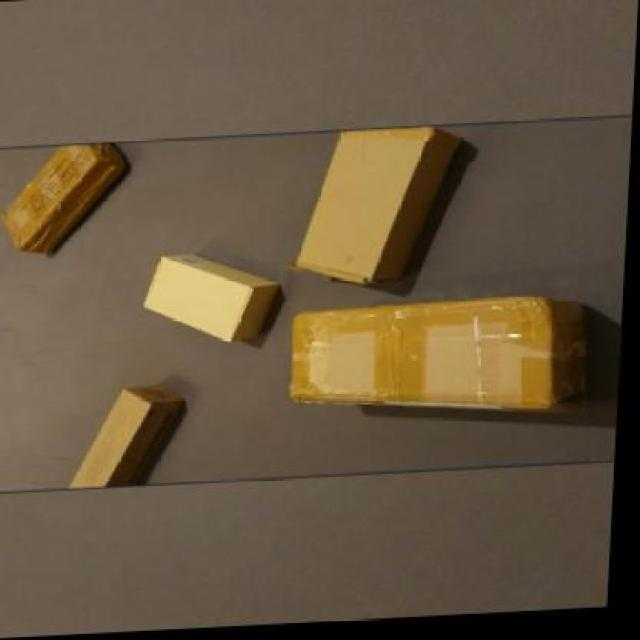box: (292, 298, 590, 424), (292, 130, 462, 292), (0, 144, 125, 255), (142, 252, 284, 347), (76, 384, 190, 490)
